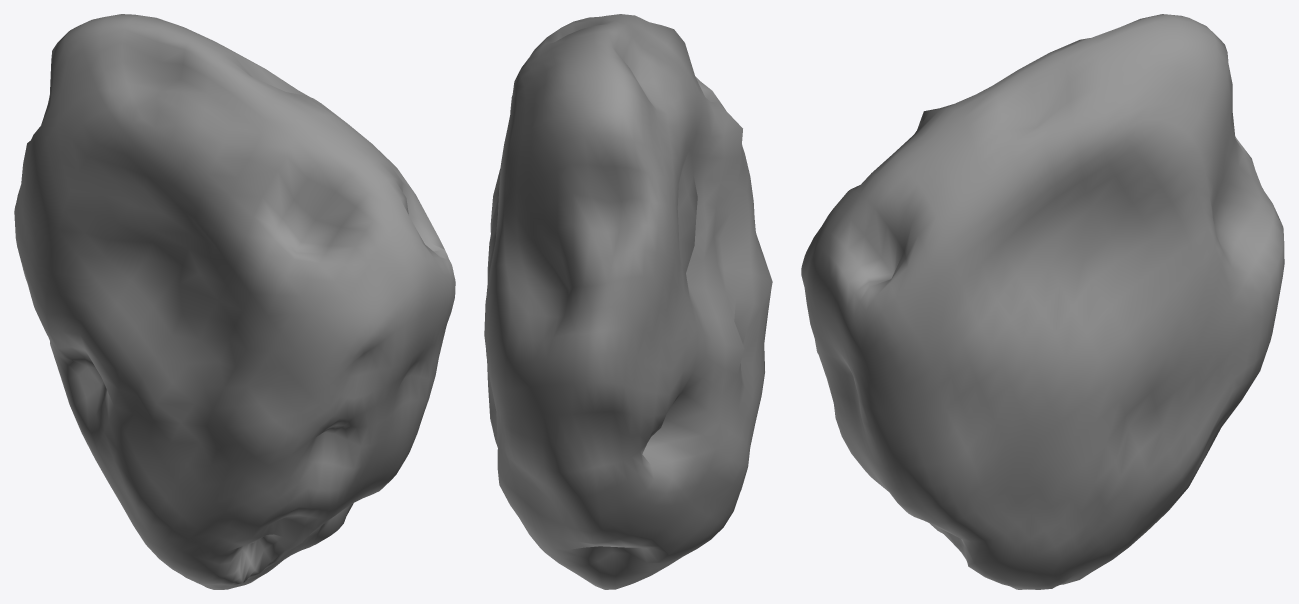
File: Asteroid Animation 3.fbx
3 renders of one model, left to right at view 1: azimuth 30°, elevation 25°; view 2: azimuth 150°, elevation 25°; view 3: azimuth 270°, elevation 25°, orthographic. The views are drawn at different scales.
Visible parts, largest first — view 1: polySurface1; view 2: polySurface1; view 3: polySurface1.
Part boxes in pixels (box(x1,y1,x2,y2)): polySurface1: box(14, 14, 455, 589); polySurface1: box(484, 14, 772, 589); polySurface1: box(801, 14, 1284, 589).
Size of the model in its own units: 2.04 by 3.85 by 3.08.
